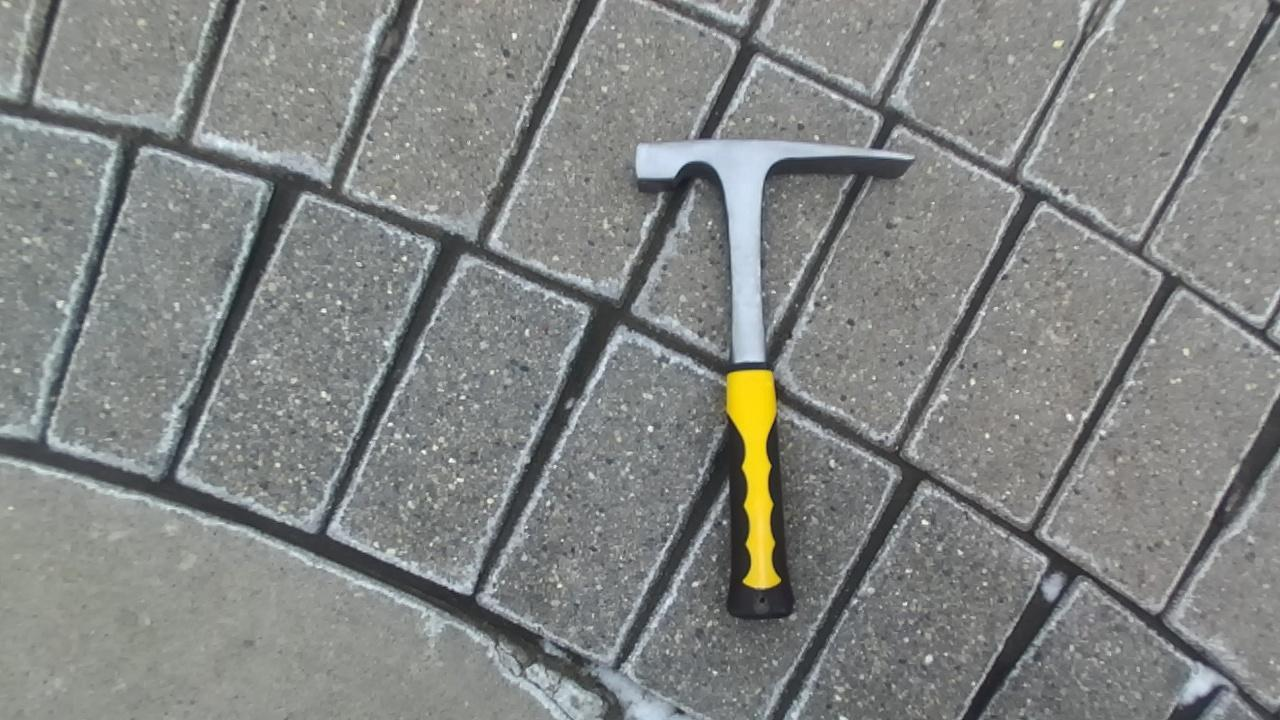pick: (635, 138, 913, 618)
